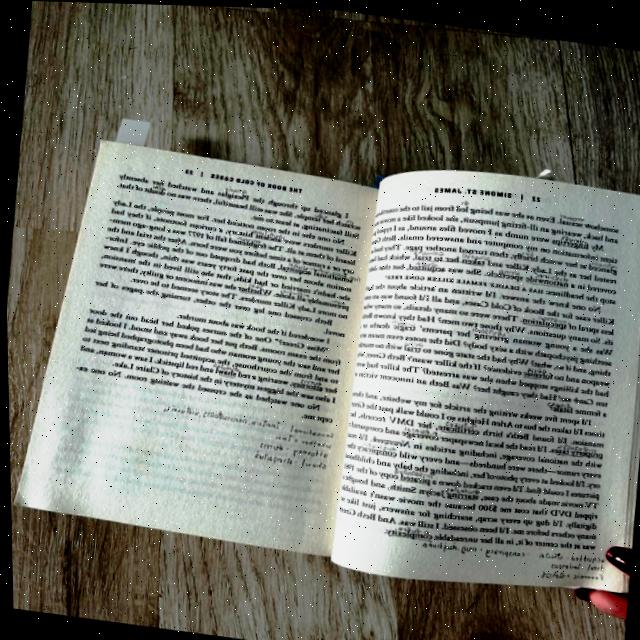Book: (13, 140, 640, 585)
